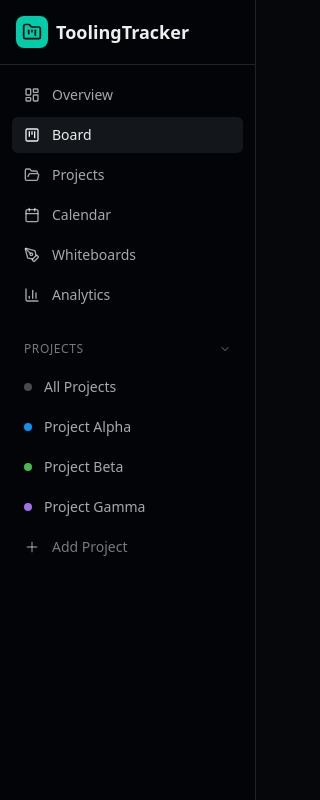
Test: Sidebar Component › should toggle projects section when clicking header
This screenshot has width=320, height=800.
Expected: the text "Project Alpha" is shown, [44,417,131,437]
Click the button "Projects" at (128, 349), box [12,333,243,365]
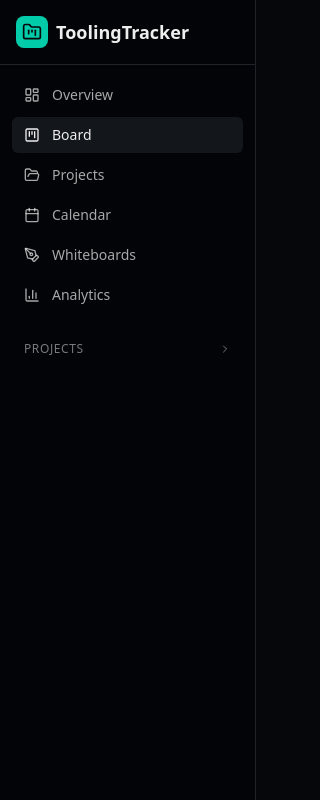
Expected: the link "Project Alpha" is gone
Click the button "Projects" at (128, 349), box [12,333,243,365]
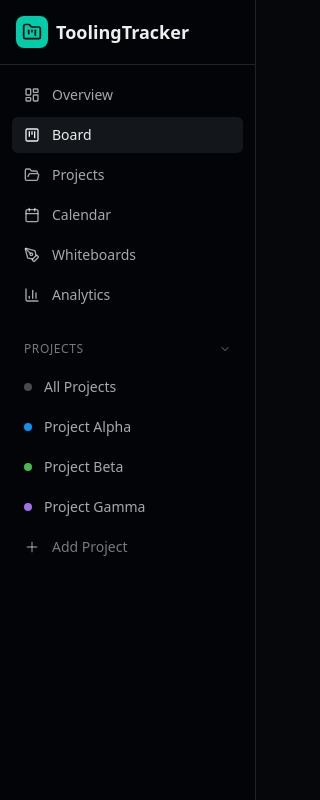
Expected: the text "Project Alpha" is shown, [44,417,131,437]
